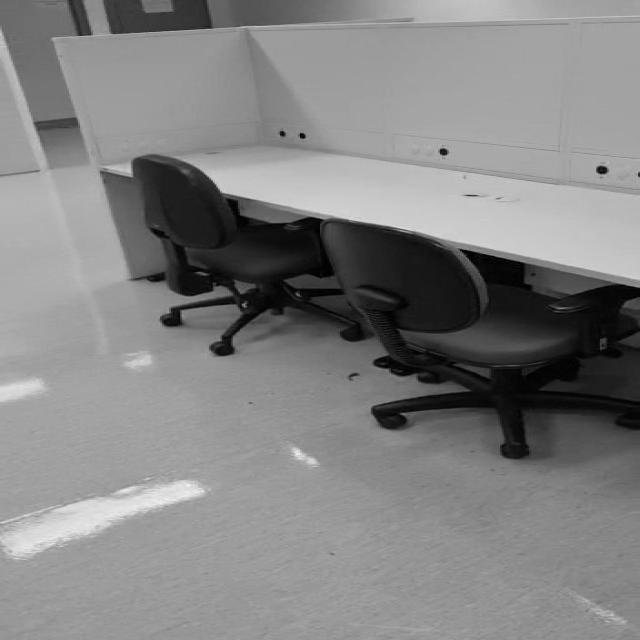cadeira-azul: (132, 154, 371, 356)
